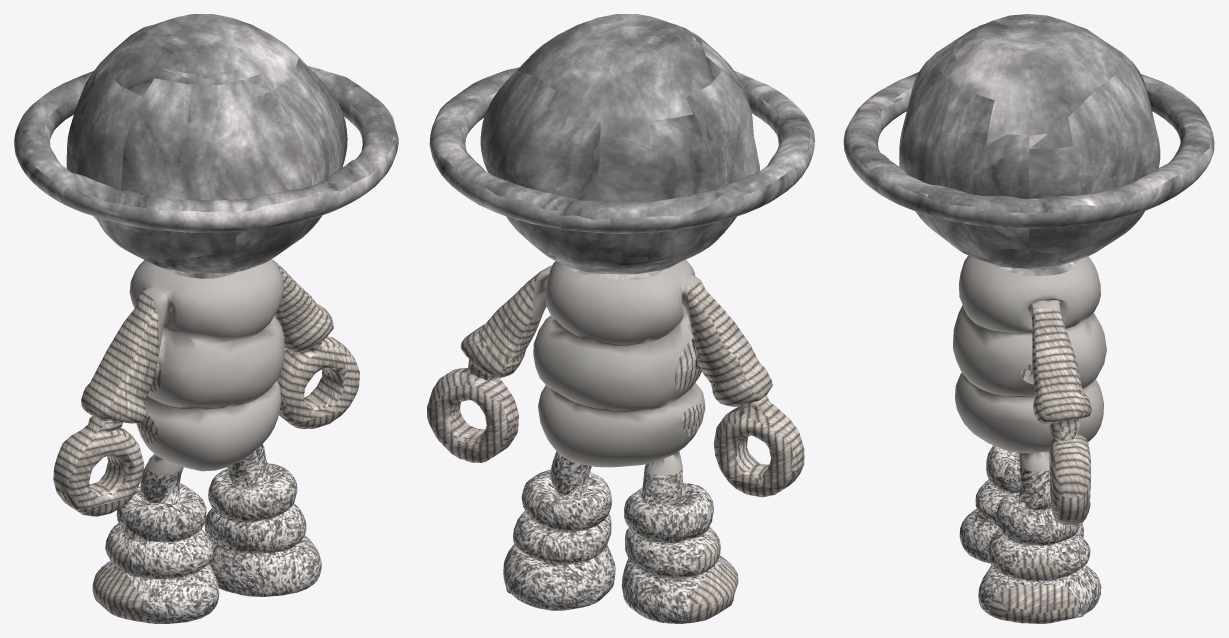
The model's file is 15-orbital-coili--robot_character_3d_model.glb.
The picture shows the model from 3 angles, left to right: view 1: azimuth 30°, elevation 25°; view 2: azimuth 150°, elevation 25°; view 3: azimuth 270°, elevation 25°; orthographic projection. The views are drawn at different scales.
Parts seen in each view (by area): view 1: head_mesh, body_mesh, arms_mesh, feet_mesh; view 2: head_mesh, body_mesh, arms_mesh, feet_mesh; view 3: head_mesh, body_mesh, arms_mesh, feet_mesh.
Part boxes in pixels (bbox=[...]): head_mesh: bbox=[14, 14, 398, 278]; body_mesh: bbox=[129, 259, 284, 474]; arms_mesh: bbox=[53, 259, 359, 621]; feet_mesh: bbox=[98, 444, 318, 623]; head_mesh: bbox=[429, 14, 814, 279]; body_mesh: bbox=[532, 259, 705, 475]; arms_mesh: bbox=[427, 266, 804, 622]; feet_mesh: bbox=[504, 451, 733, 623]; head_mesh: bbox=[843, 14, 1214, 275]; body_mesh: bbox=[953, 255, 1106, 471]; arms_mesh: bbox=[989, 307, 1091, 623]; feet_mesh: bbox=[959, 445, 1101, 617].
Size of the model in its own units: 1.88 by 3 by 1.85.
Materials: 4 (4 with a texture image).
